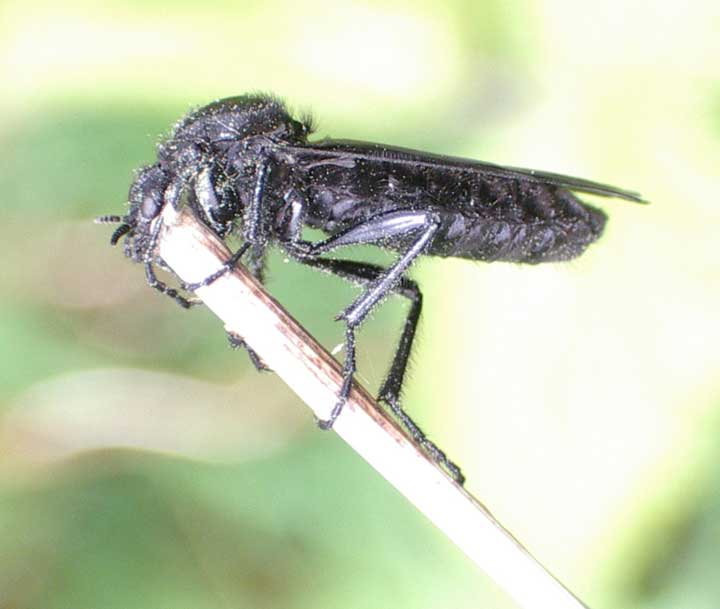green bottles fly: (93, 40, 657, 497)
